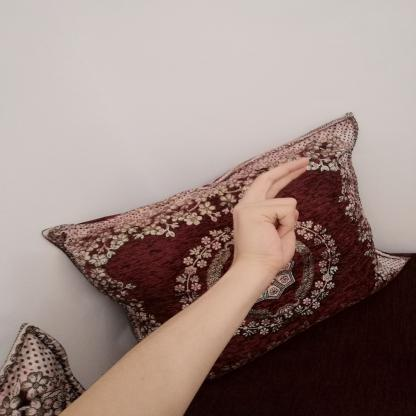ZAY: (223, 149, 321, 278)
